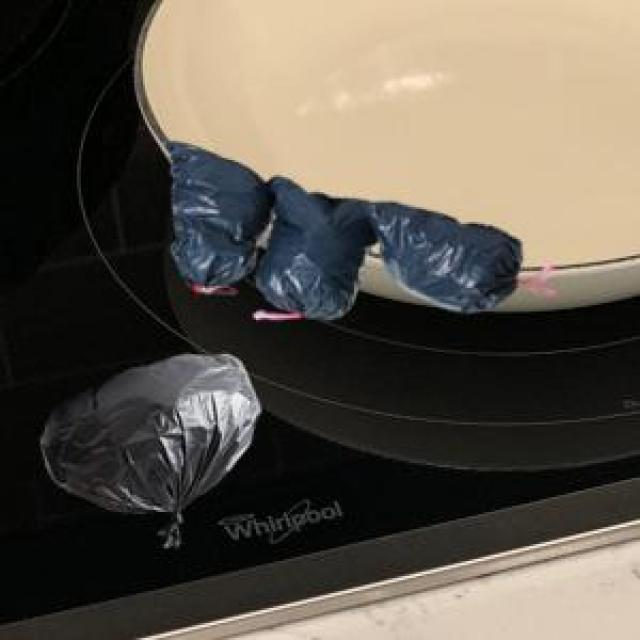waste: (169, 142, 521, 321), (41, 354, 261, 548)
